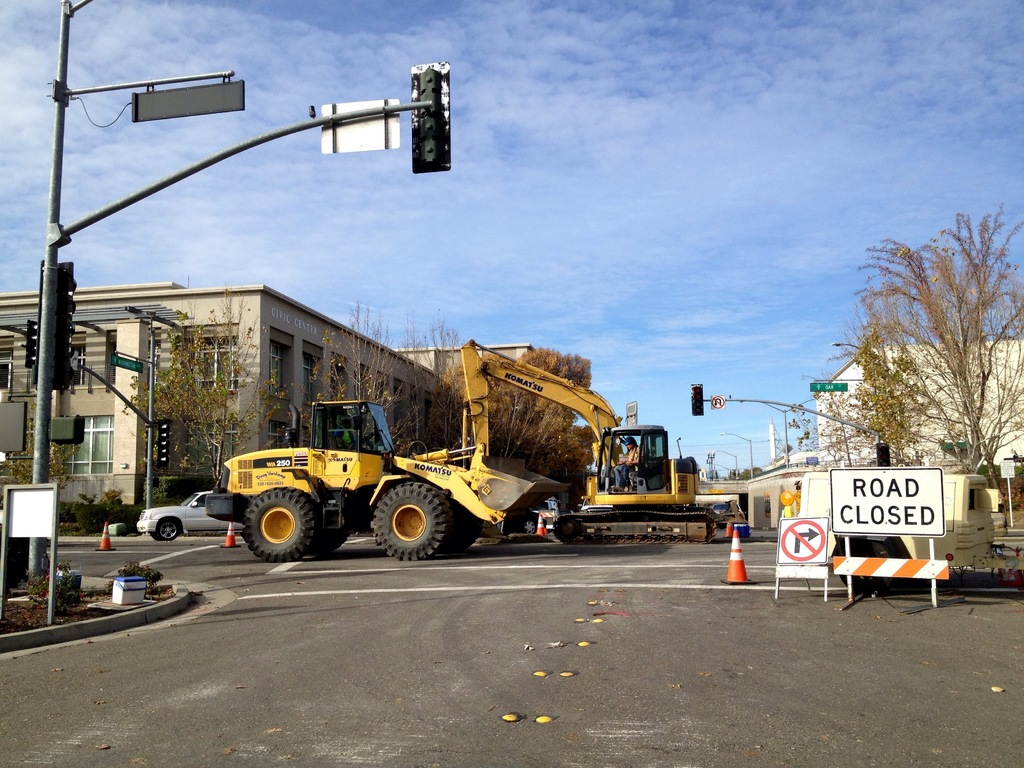Car: (135, 488, 245, 540)
